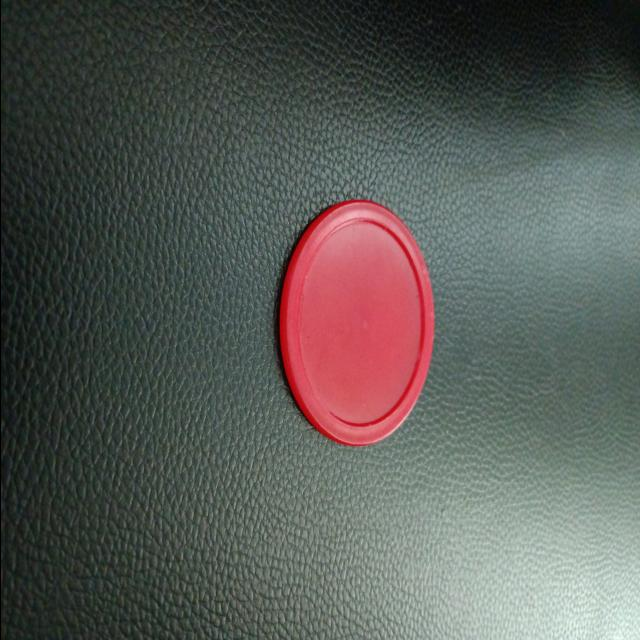chip: (277, 196, 437, 452)
